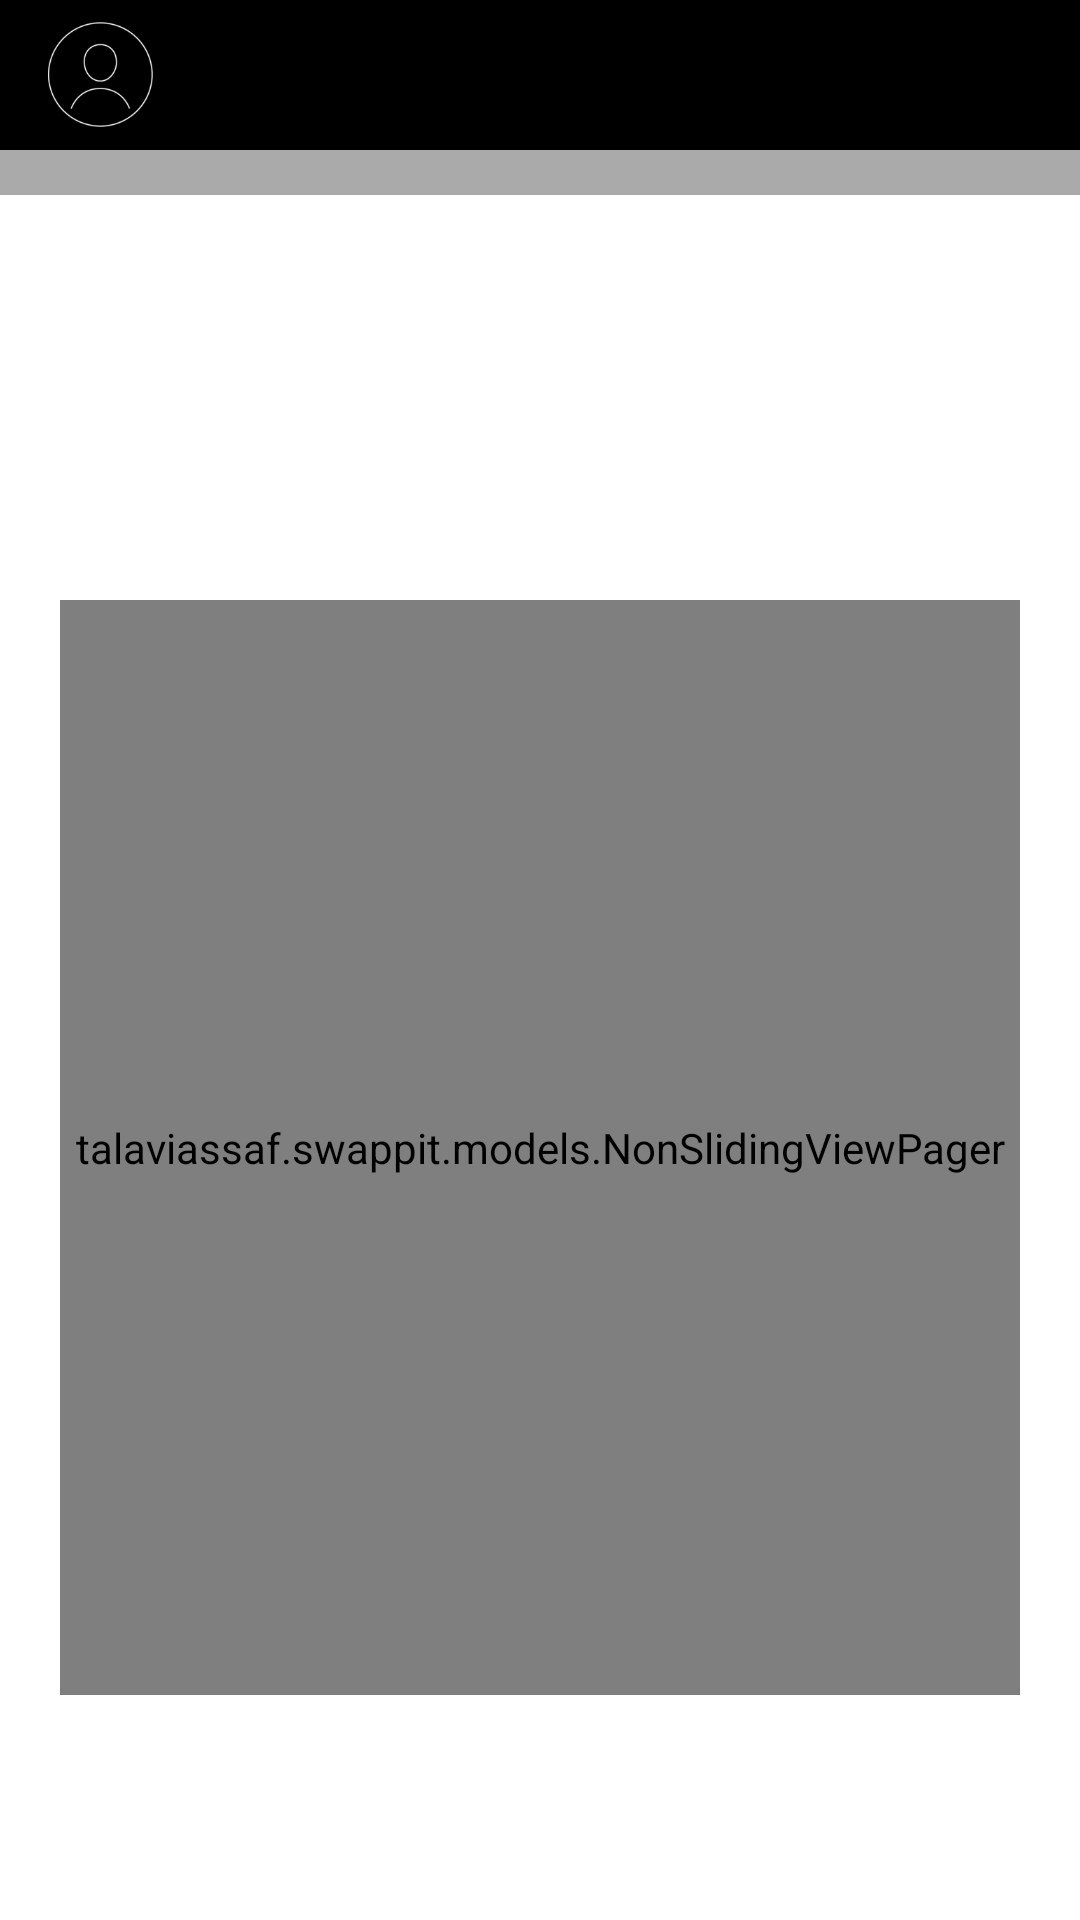

Screen size 1080px x 1920px. Icon name, then its center in pixels as (x=x, y=y):
profile picture: (x=100, y=74)
